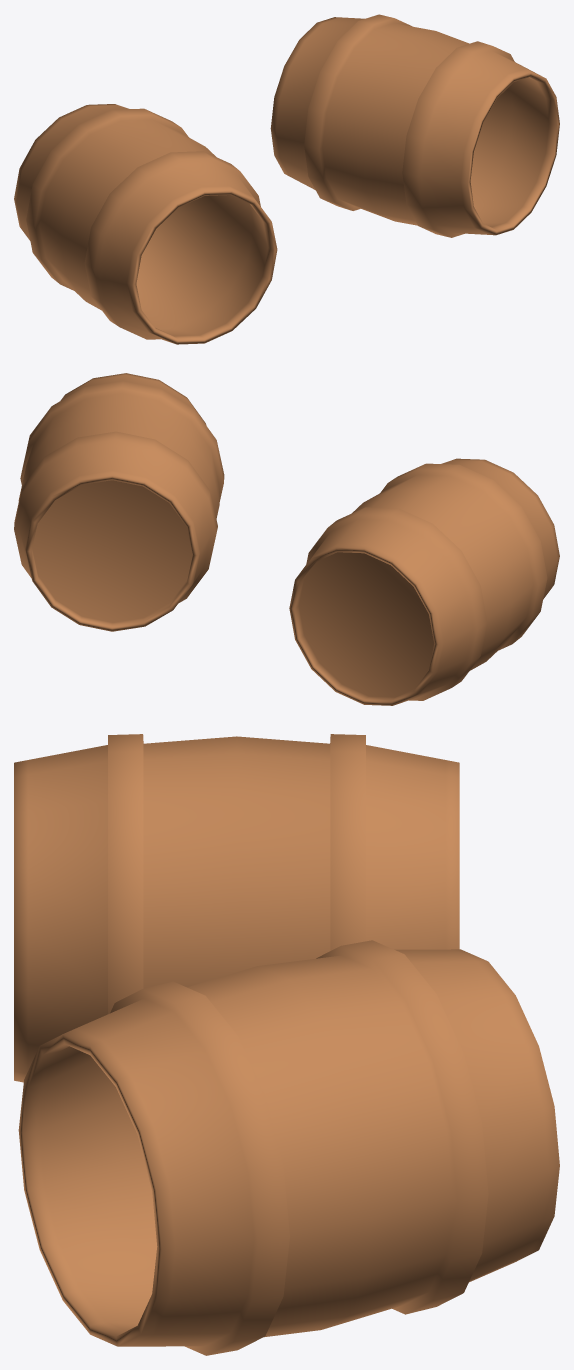
The model's file is Barrel_Break_03A_Lod0.fbx.
3 views of the same model, one above another, from view 1: azimuth 30°, elevation 25°; view 2: azimuth 150°, elevation 25°; view 3: azimuth 270°, elevation 25° (orthographic). The views are drawn at different scales.
Parts seen in each view (by area): view 1: Barrel_Break_03A_Lod0; view 2: Barrel_Break_03A_Lod0; view 3: Barrel_Break_03A_Lod0.
Boxes of the visible parts, x1,y1,x2,y2 form: Barrel_Break_03A_Lod0: (14, 14, 559, 344); Barrel_Break_03A_Lod0: (14, 373, 559, 705); Barrel_Break_03A_Lod0: (14, 734, 559, 1355).
Size of the model in its own units: 188 by 74.3 by 97.84.
